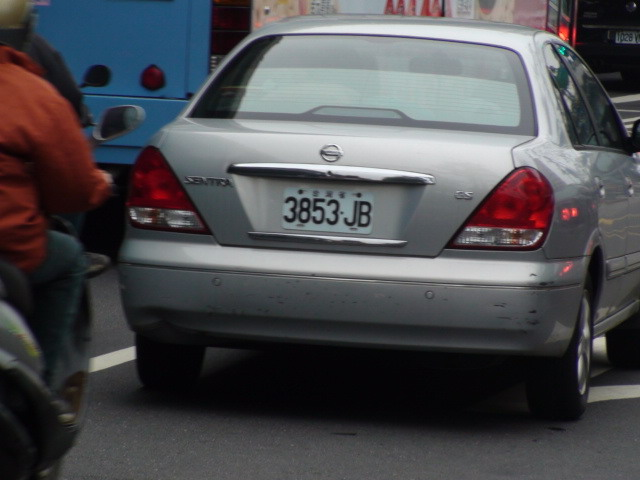plate: (281, 185, 376, 236)
